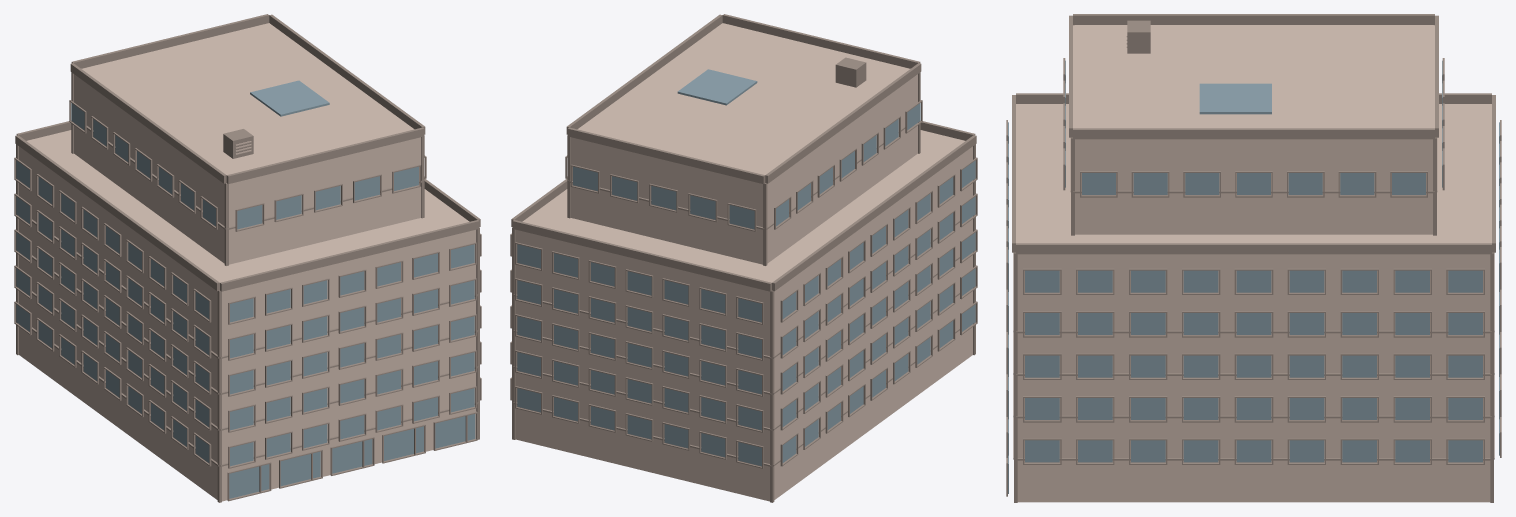
The model's file is lot_3x4.glb.
The picture shows the model from 3 angles, left to right: view 1: azimuth 30°, elevation 25°; view 2: azimuth 150°, elevation 25°; view 3: azimuth 270°, elevation 25°; orthographic projection. The views are drawn at different scales.
Parts seen in each view (by area): view 1: lot_3x4; view 2: lot_3x4; view 3: lot_3x4.
Part boxes in pixels (left/top/right/bottom): lot_3x4: left=14, top=14, right=481, bottom=502; lot_3x4: left=510, top=14, right=977, bottom=502; lot_3x4: left=1006, top=14, right=1501, bottom=502.
Bounding box in the file's own units: 23.74 × 26 × 31.74.
